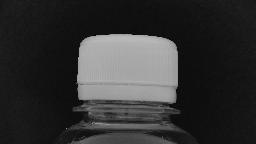Good Cap: (67, 30, 185, 118)
